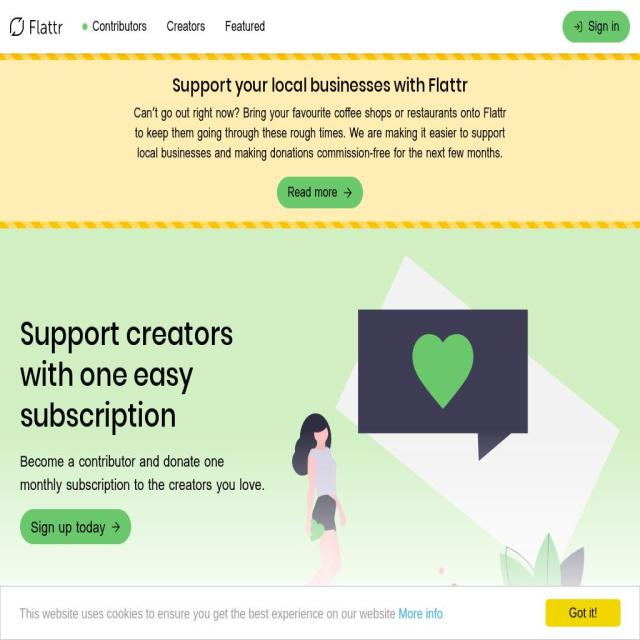button: (20, 508, 131, 544), (277, 177, 363, 208), (562, 11, 630, 42), (546, 611, 620, 639), (10, 11, 62, 42)
heading: (20, 312, 270, 436)
image: (265, 255, 620, 628), (10, 17, 62, 36)
link: (82, 19, 147, 34), (398, 618, 443, 634), (225, 19, 266, 34), (166, 19, 206, 34)
text: (130, 104, 510, 164), (20, 448, 270, 496), (172, 73, 468, 97), (19, 618, 399, 634), (30, 516, 106, 536), (288, 184, 338, 201), (588, 18, 620, 35)
